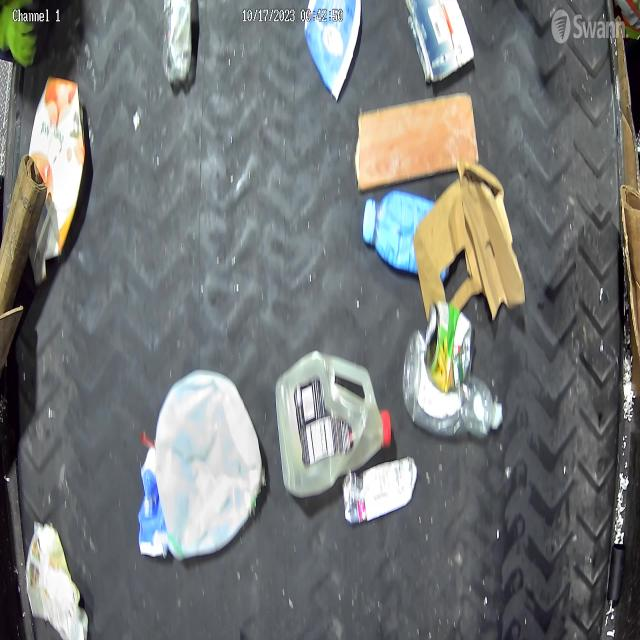milk-jug: (152, 364, 265, 556)
